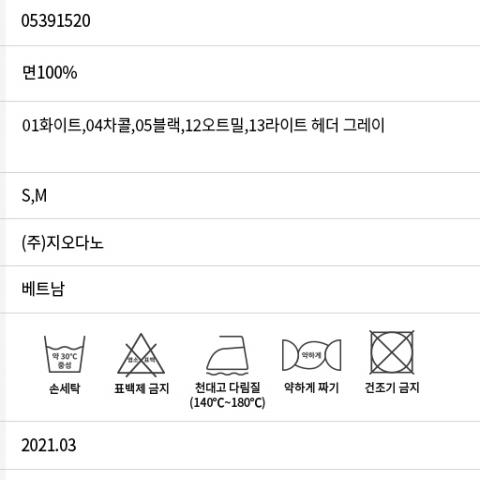30C: (38, 331, 91, 377)
DN_tumble_dry: (366, 325, 419, 378)
iron: (205, 333, 254, 375)
non_chlorine_bleach: (111, 327, 175, 378)
wring: (277, 333, 344, 375)
